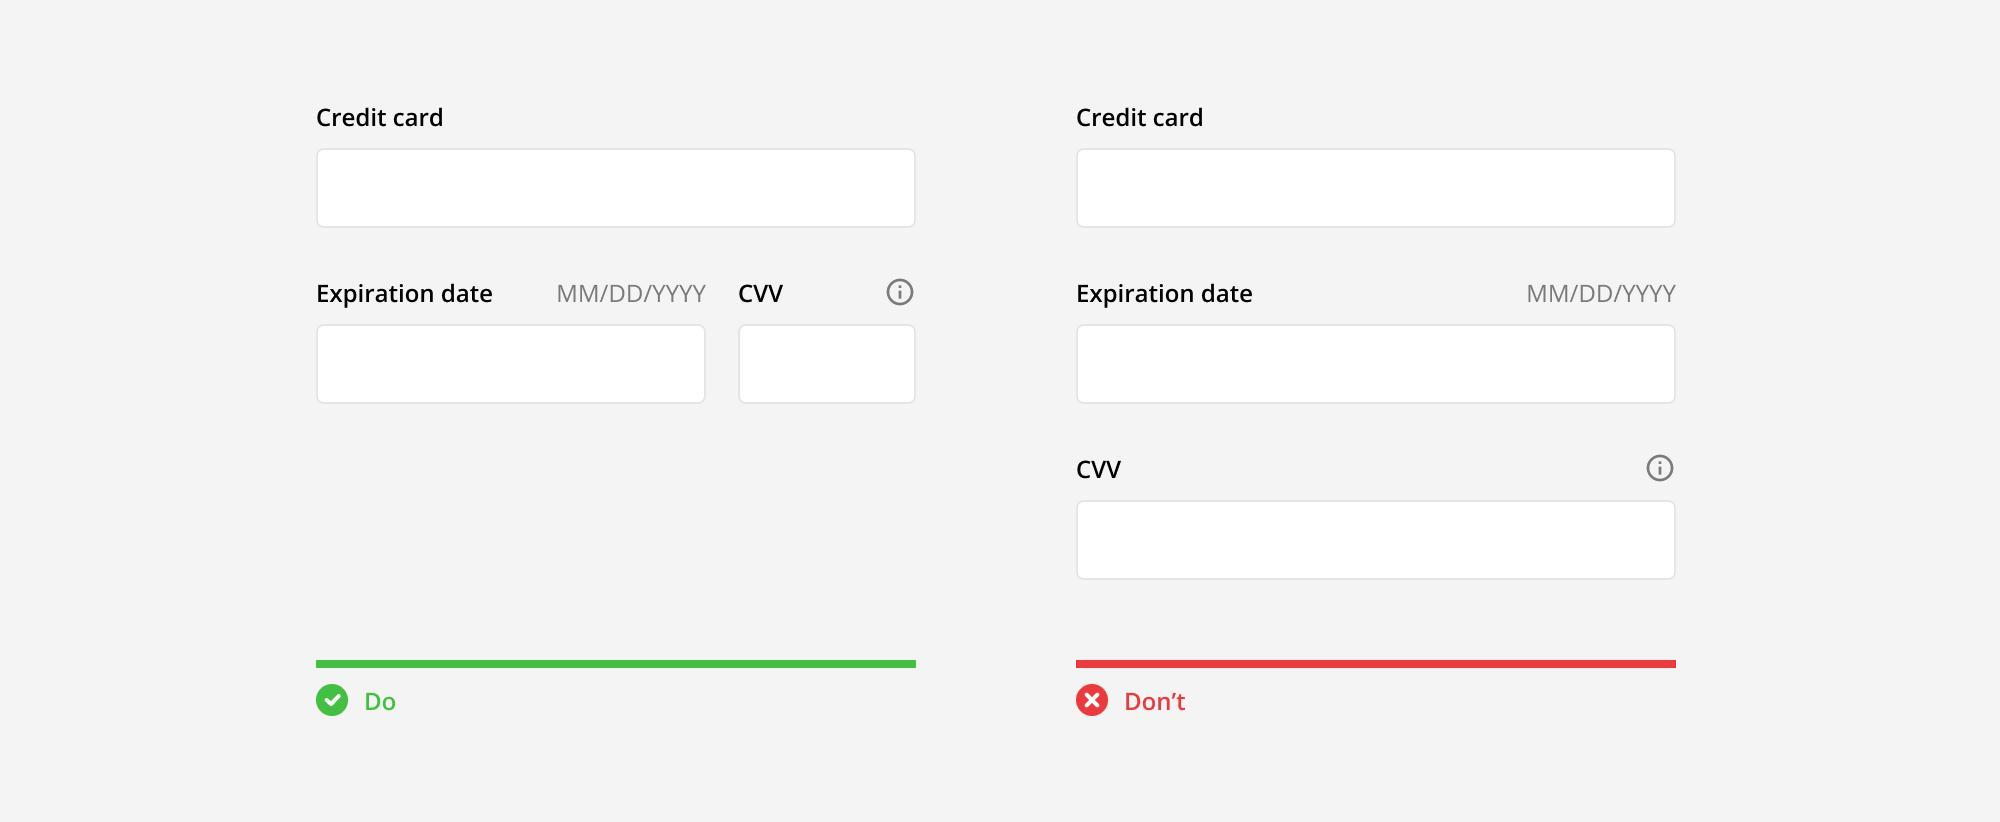icon: (881, 272, 918, 311), (1651, 452, 1675, 486)
input: (314, 147, 915, 228), (1077, 502, 1673, 581), (1079, 151, 1676, 228), (1077, 329, 1673, 403), (315, 324, 704, 407), (739, 325, 918, 403)
label: (301, 272, 509, 319), (1066, 274, 1264, 311), (1070, 101, 1226, 137), (307, 101, 457, 137), (1064, 452, 1130, 485), (733, 277, 784, 311)
